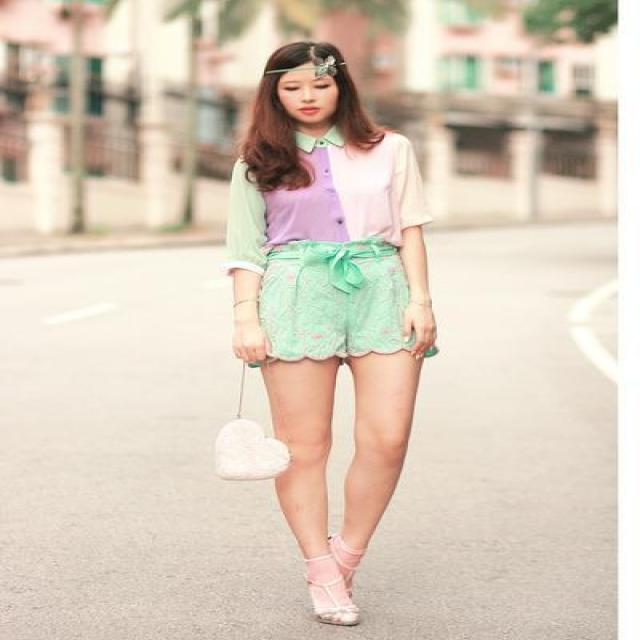shirt: (212, 128, 430, 265)
shoe: (308, 556, 378, 621)
skirt: (260, 233, 402, 359)
